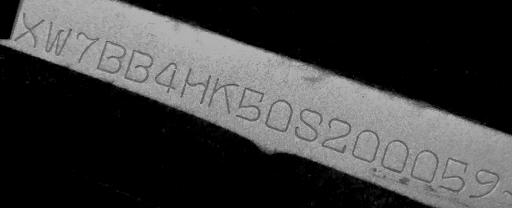letter: (206, 75, 240, 115), (178, 65, 212, 104), (11, 10, 45, 49), (320, 115, 352, 155), (234, 84, 266, 122), (293, 103, 323, 143), (465, 167, 501, 200), (122, 47, 154, 84), (378, 138, 410, 173), (95, 39, 127, 74), (350, 126, 380, 163), (438, 155, 468, 192), (264, 97, 294, 133), (410, 147, 440, 182), (44, 20, 72, 57), (74, 31, 100, 64), (154, 60, 178, 94)
